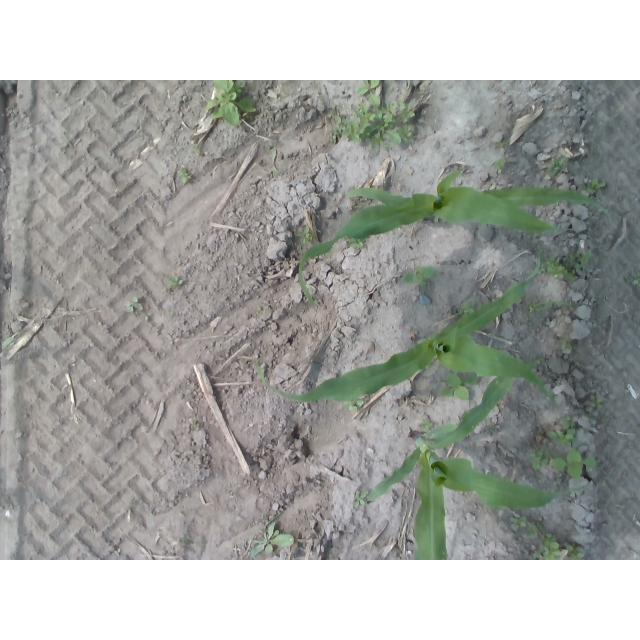Maize: (255, 246, 560, 405), (364, 354, 586, 560), (298, 168, 614, 312)
Weeds: (328, 97, 416, 156), (205, 80, 257, 126), (535, 250, 594, 282), (248, 523, 294, 558), (550, 448, 596, 480), (438, 371, 478, 402), (523, 296, 574, 317), (546, 415, 578, 445), (508, 515, 544, 538), (399, 266, 437, 287), (533, 533, 561, 560), (356, 80, 381, 108), (529, 445, 550, 471), (545, 155, 568, 178), (265, 146, 280, 179), (580, 177, 605, 194), (455, 299, 476, 318), (343, 394, 365, 412), (125, 296, 144, 315), (563, 544, 584, 561), (296, 225, 313, 243), (352, 490, 369, 507), (586, 395, 604, 410), (554, 337, 573, 351), (346, 236, 367, 248), (165, 275, 183, 289), (494, 157, 507, 173), (179, 169, 192, 184), (418, 420, 433, 433), (1, 335, 16, 347), (630, 272, 640, 288), (192, 145, 204, 156), (498, 141, 509, 148), (255, 307, 262, 312)
